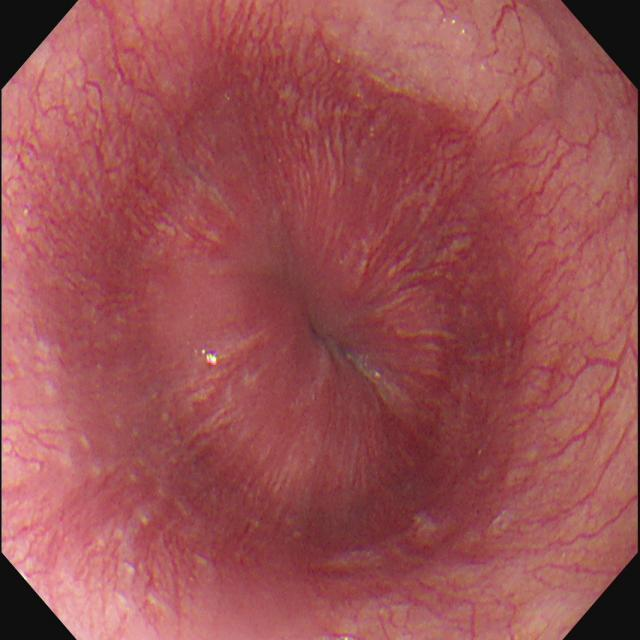I: (125, 93, 507, 556)
U: (194, 348, 222, 369)
